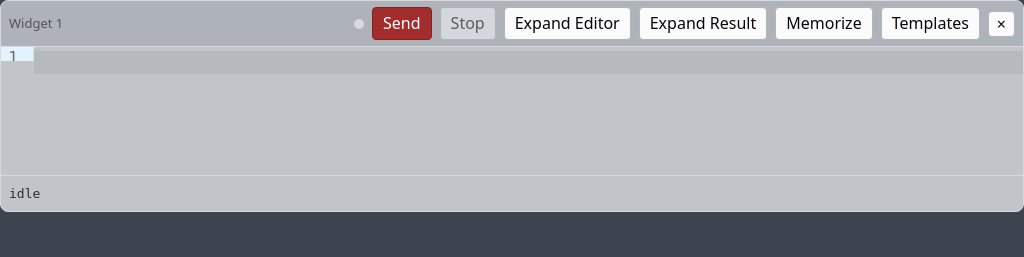
Test: Widget › shows an error status line distinct from success when the backend reports ok:false
The width and height of the screenshot is (1024, 257).
Click the button "Send" at (402, 24), box [372,7,432,40]
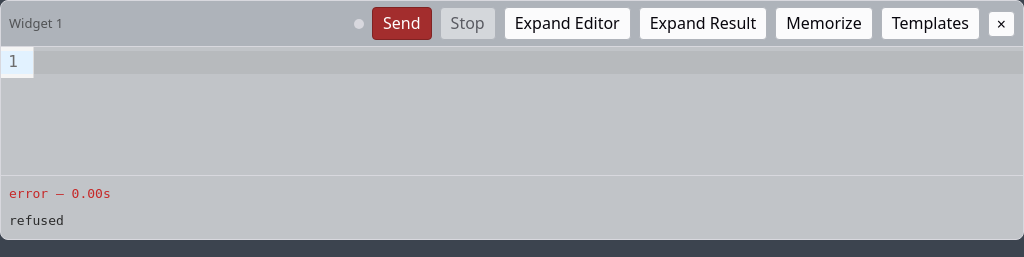
expect the text "error — 0.00s" is shown: met, box [9,186,111,201]
expect the text "refused" is shown: met, box [9,213,64,228]
